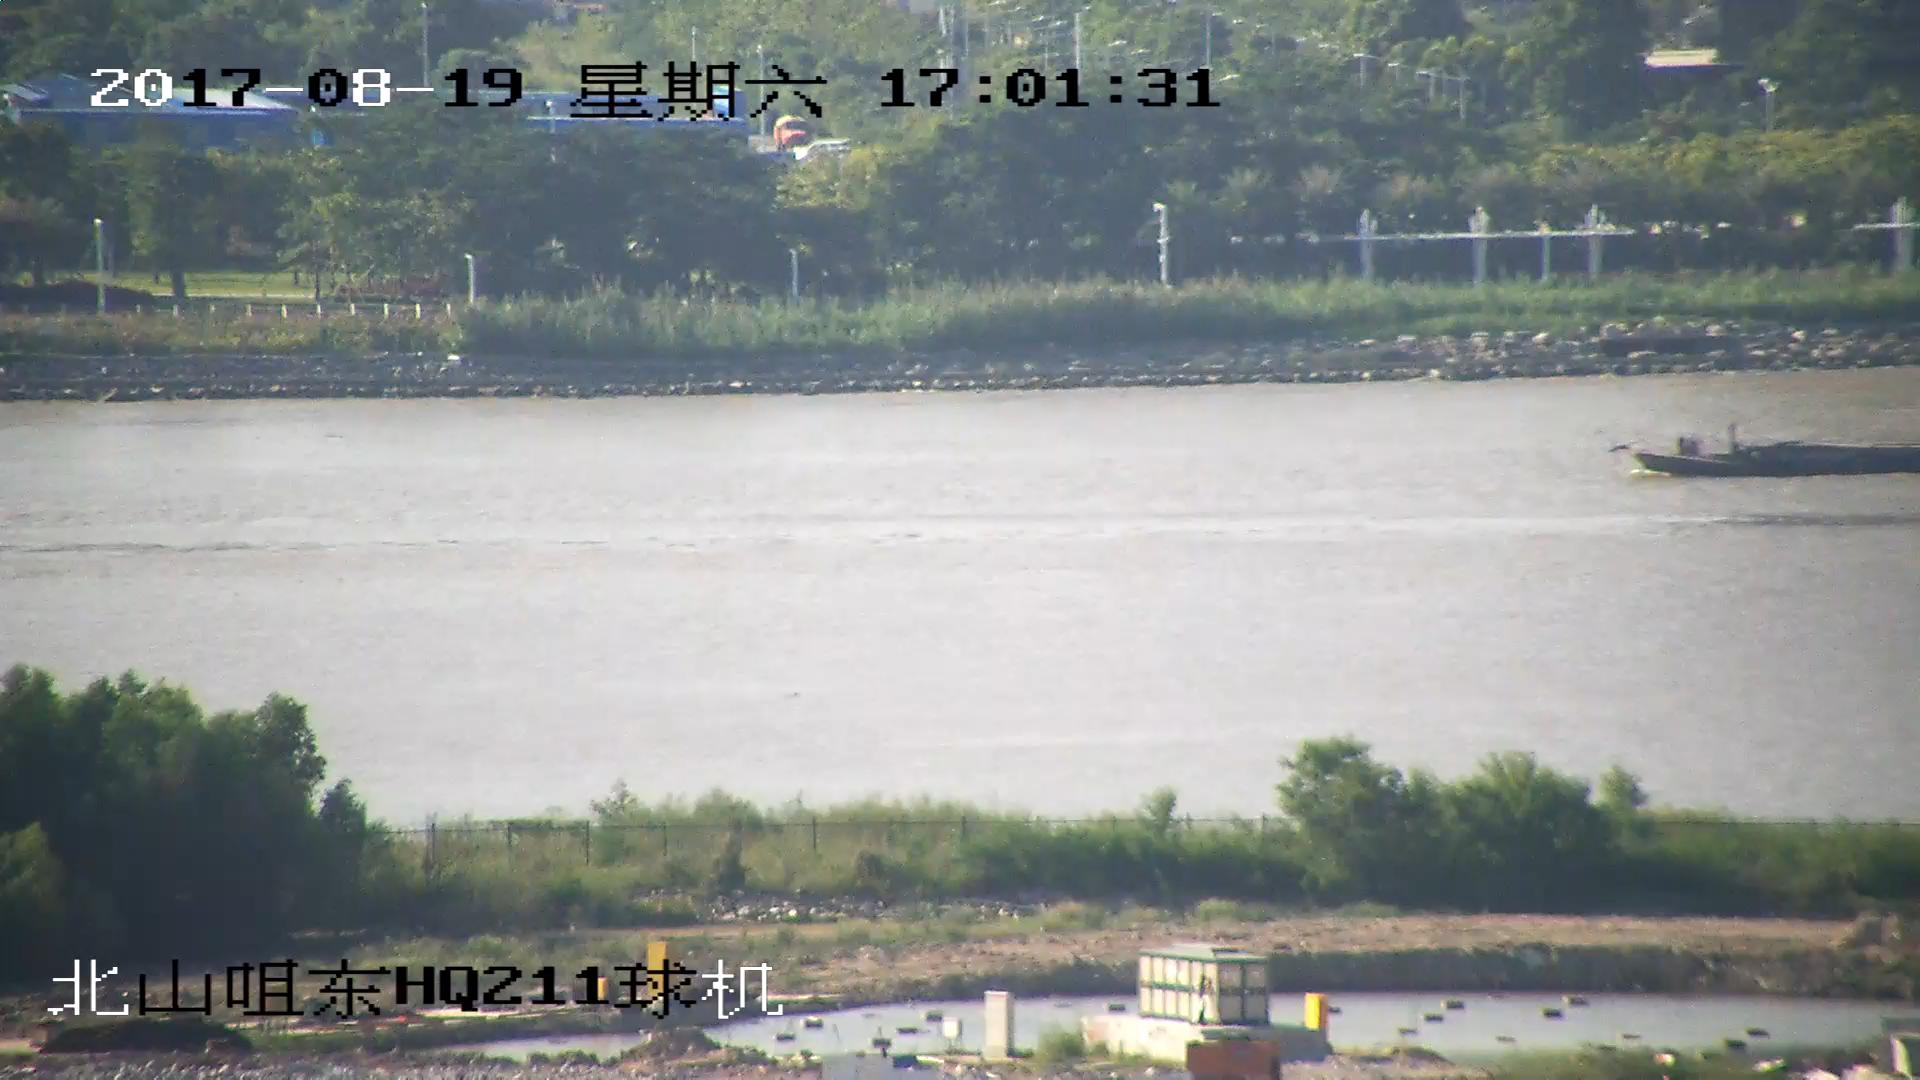fishing boat: (1622, 430, 1920, 482)
